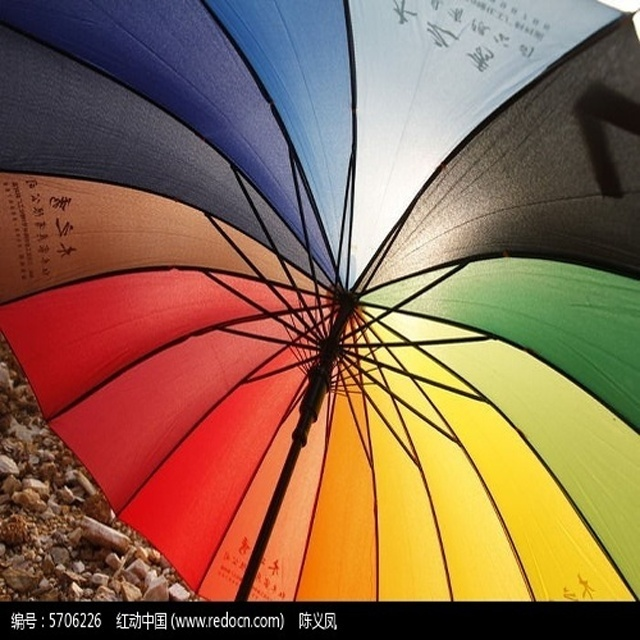umbrella: (1, 1, 640, 601)
